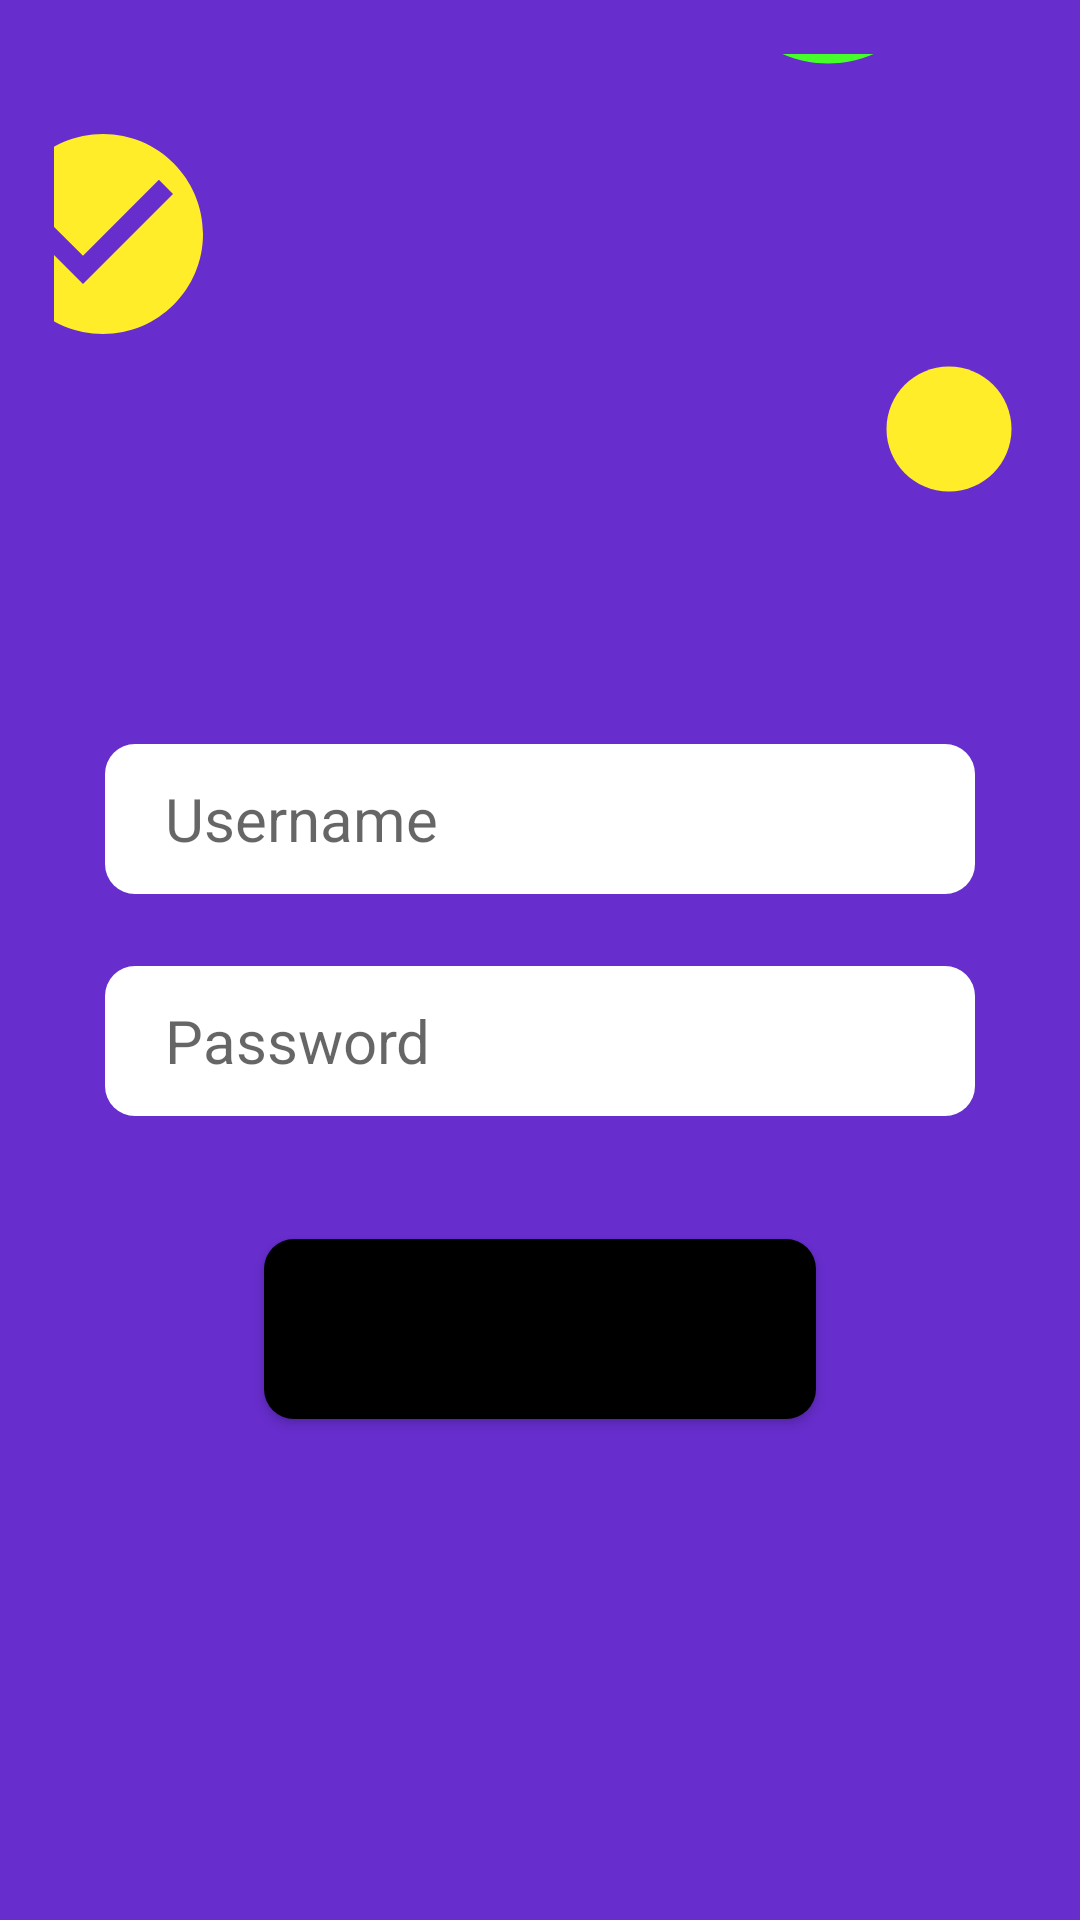

Icons on this 1080 x 1920 Android screen, each with its box as (x1, y1, x2, y2):
check: (54, 134, 203, 334)
